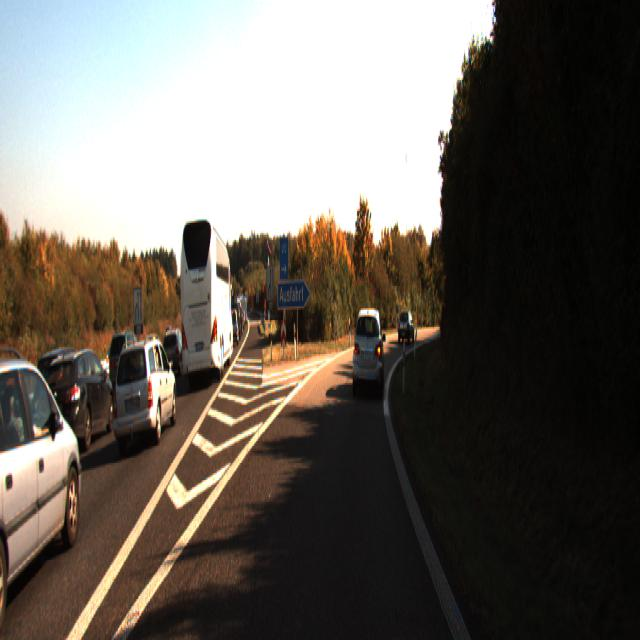Car: (0, 343, 87, 637), (179, 211, 232, 390), (41, 340, 115, 460), (113, 334, 177, 451), (352, 304, 384, 396), (398, 309, 416, 345), (432, 308, 447, 334)
